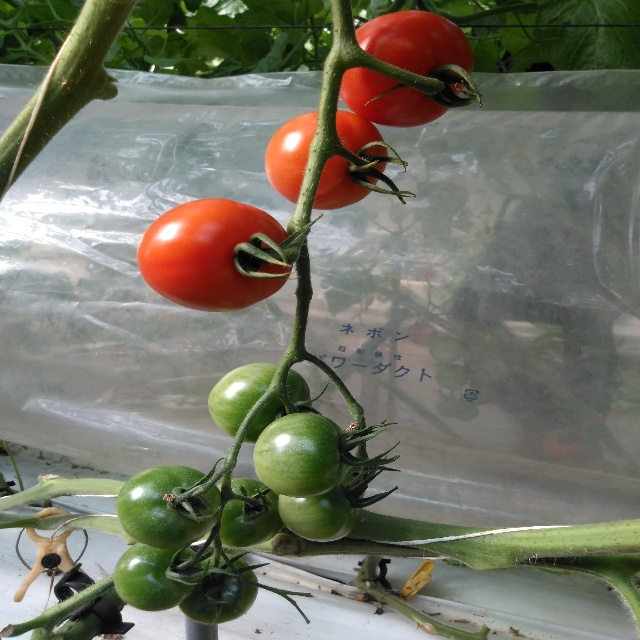l_fully_ripened: (137, 198, 293, 312), (335, 10, 474, 128), (265, 110, 388, 210)
l_green: (115, 466, 223, 550), (208, 362, 312, 445), (253, 412, 348, 498), (114, 541, 202, 612), (179, 552, 260, 624), (278, 474, 363, 542), (212, 478, 284, 547)
